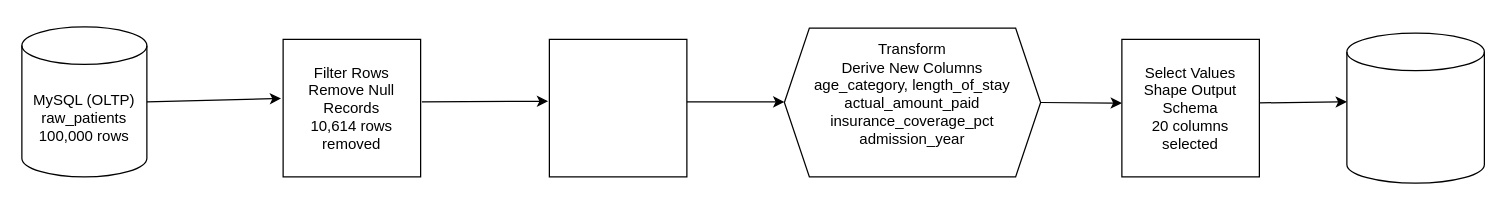
The diagram is 1506 pixels wide and 205 high, and some of its shapes have lost their labels. Here are the shapes that lost their labels. From the top down, the centre of each, then its label:
pixel 617 107: String Manipulation Fix casing, gender, blood group phone, department, diagnosis
pixel 1415 107: PostgreSQL (OLAP) Cleaned Data
